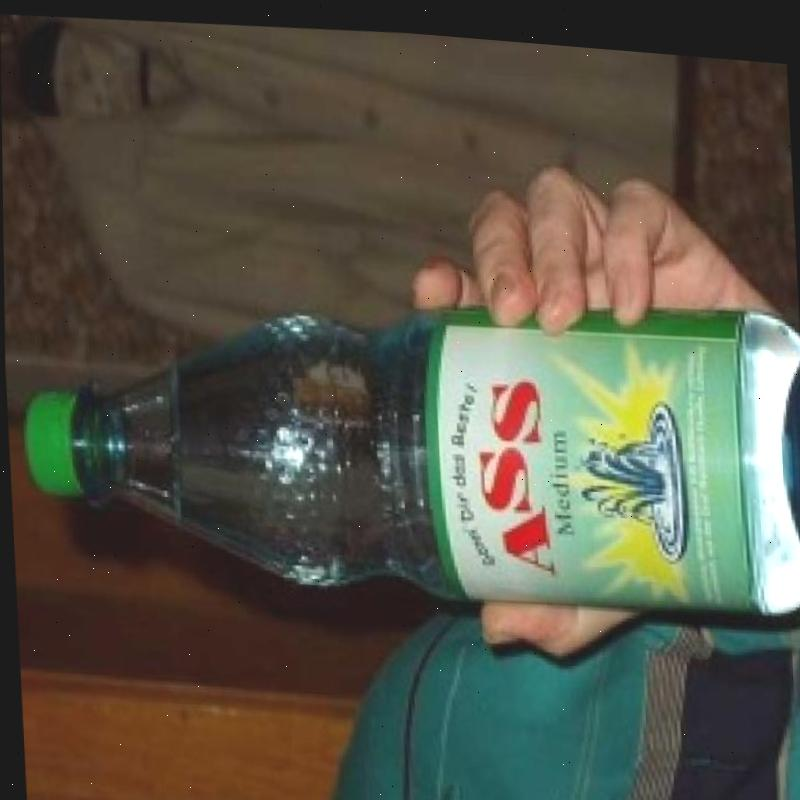botella: (10, 249, 800, 637)
